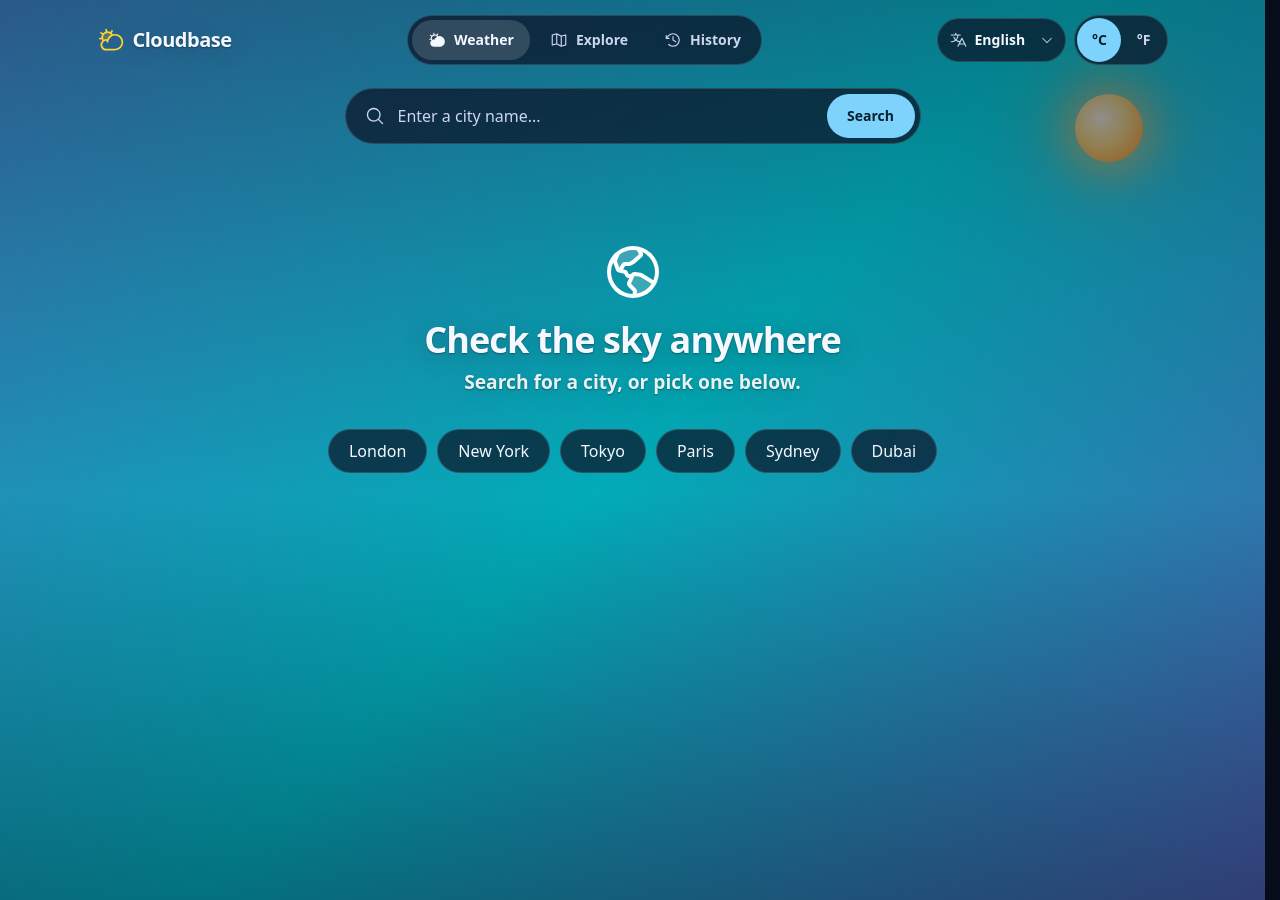
Test: failures › explains an invalid API key and offers no retry
Type "Tokyo" into the dropdown labelled "Enter a city name...".
click(632, 116); type("Tokyo")  # box [344,88,920,144]
Then press Enter
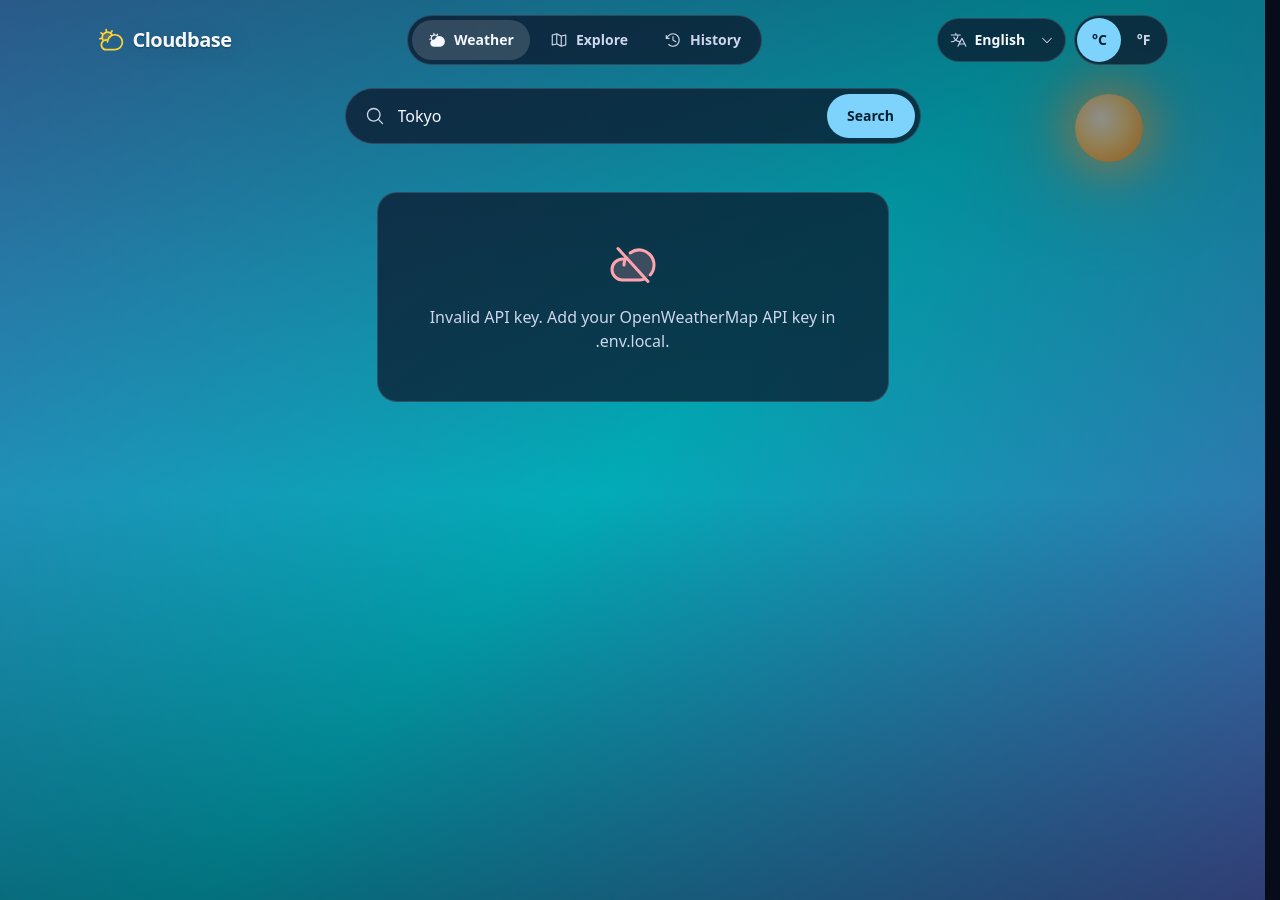
Expected: the message shows "Invalid API key", [430,306,835,352]
